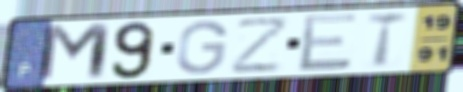9: (107, 19, 160, 81)
E: (296, 11, 360, 74)
G: (173, 19, 230, 77)
M: (35, 21, 114, 84)
T: (364, 10, 411, 70)
Z: (229, 14, 294, 76)
